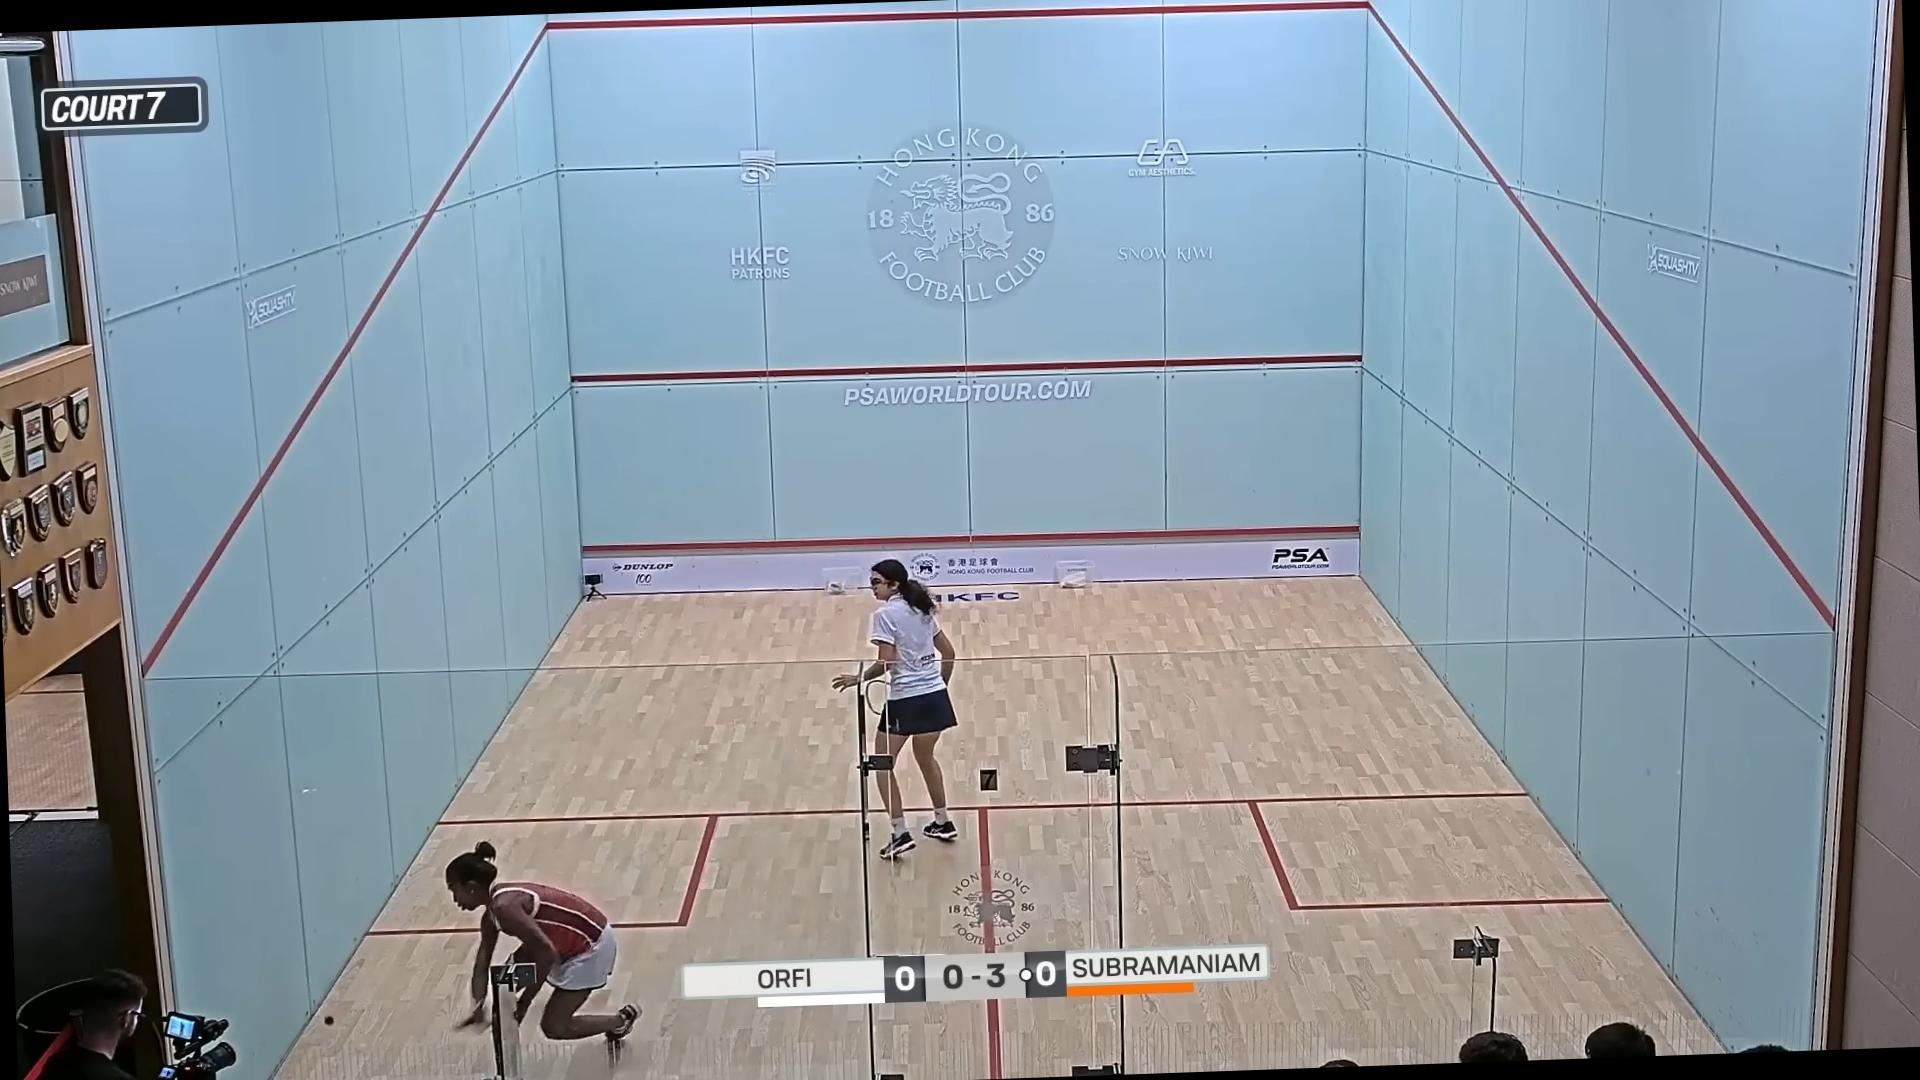Squash-Ball: (314, 1000, 345, 1040)
